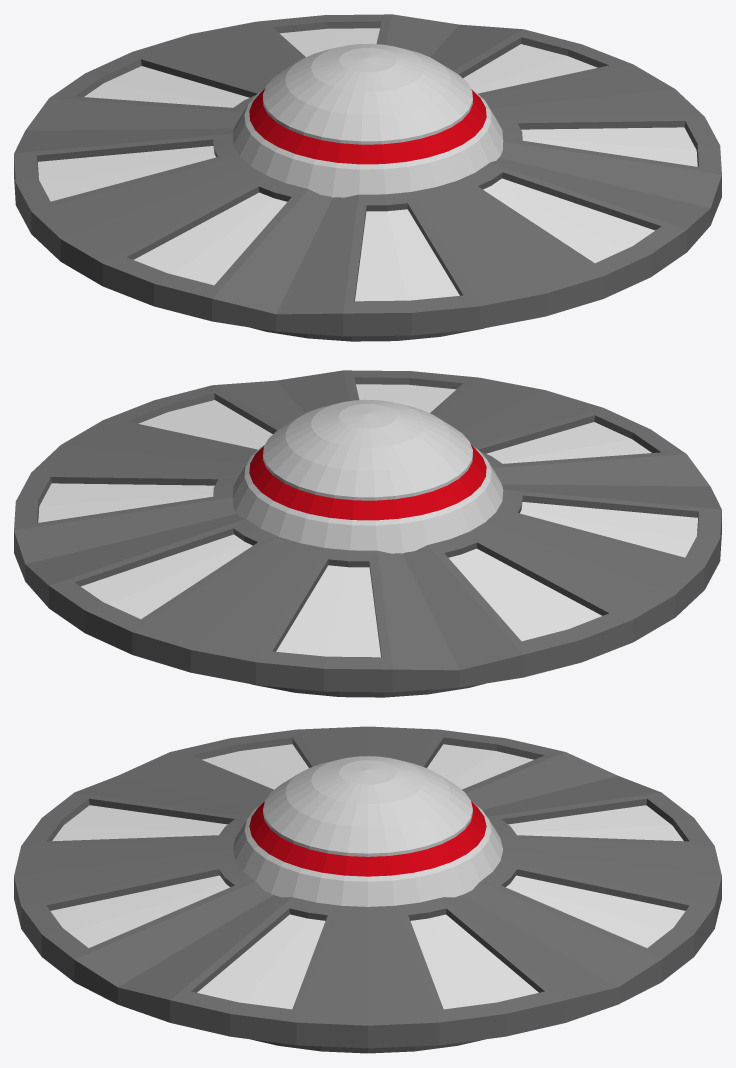
The model's file is Ufo.fbx.
3 renders of one model, top to bottom at view 1: azimuth 30°, elevation 25°; view 2: azimuth 150°, elevation 25°; view 3: azimuth 270°, elevation 25°, orthographic.
Visible parts, largest first — view 1: BezierCircle, Sphere; view 2: BezierCircle, Sphere; view 3: BezierCircle, Sphere.
Part boxes in pixels (x1=…): BezierCircle: x1=14, y1=14, x2=721, y2=341; Sphere: x1=232, y1=43, x2=503, y2=197; BezierCircle: x1=14, y1=370, x2=721, y2=697; Sphere: x1=232, y1=399, x2=503, y2=553; BezierCircle: x1=14, y1=726, x2=721, y2=1053; Sphere: x1=232, y1=756, x2=503, y2=906.
Bounding box in the file's own units: 1000 × 290 × 1000.
